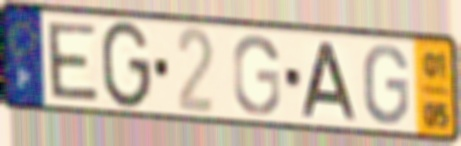2: (174, 25, 218, 117)
A: (299, 39, 360, 124)
E: (44, 20, 102, 104)
G: (100, 18, 153, 112), (230, 32, 282, 118), (361, 43, 411, 128)
